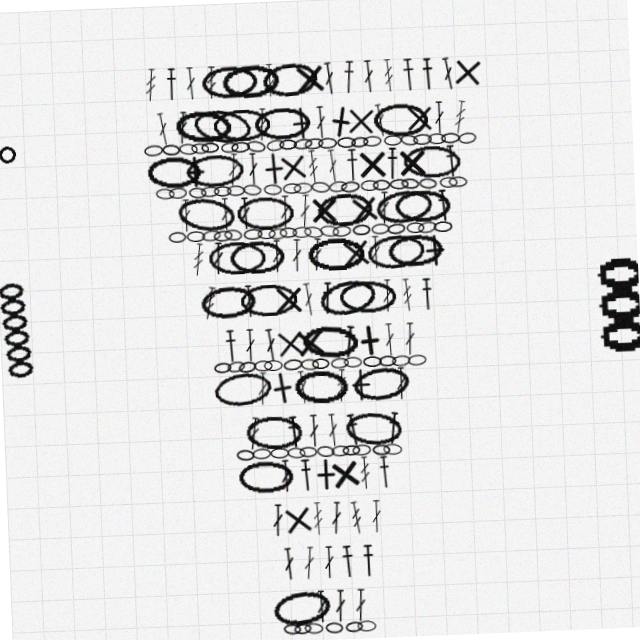chain: (318, 277, 380, 320), (199, 102, 261, 144), (180, 190, 242, 231), (260, 587, 320, 627), (210, 367, 270, 406), (349, 367, 408, 406), (379, 191, 438, 230), (369, 236, 429, 273), (340, 412, 398, 450), (300, 324, 358, 361), (182, 104, 240, 141), (271, 60, 328, 97), (201, 281, 258, 317), (241, 413, 299, 448), (409, 149, 467, 184), (231, 61, 289, 96), (390, 237, 447, 272), (340, 282, 398, 316), (241, 194, 299, 228), (192, 150, 250, 184), (291, 369, 347, 404), (321, 193, 377, 228), (211, 62, 268, 96), (232, 458, 288, 492), (241, 282, 298, 315), (211, 238, 268, 271), (310, 238, 367, 271), (399, 194, 456, 227), (221, 106, 278, 139), (153, 150, 208, 184), (381, 106, 436, 140), (262, 106, 318, 139), (232, 238, 287, 271), (307, 225, 327, 239), (253, 137, 273, 151), (236, 357, 255, 371), (407, 137, 426, 151), (281, 357, 301, 370), (205, 225, 225, 238), (323, 225, 343, 238), (421, 225, 441, 238), (316, 181, 336, 194), (300, 137, 320, 150), (311, 137, 331, 150), (311, 445, 330, 458), (225, 357, 244, 370), (227, 225, 246, 238), (248, 181, 267, 194), (334, 181, 353, 194), (406, 181, 425, 194), (273, 137, 292, 150), (281, 622, 300, 634), (292, 622, 311, 634), (378, 446, 397, 458), (390, 358, 409, 370), (406, 358, 425, 370), (217, 226, 236, 238), (272, 226, 291, 238), (336, 226, 355, 238), (161, 182, 180, 194), (346, 182, 365, 194), (424, 182, 443, 194), (151, 138, 170, 150), (186, 138, 205, 150), (238, 138, 257, 150), (465, 138, 484, 150), (271, 622, 289, 634), (313, 622, 331, 634), (333, 622, 351, 634), (231, 446, 249, 458), (282, 446, 300, 458), (367, 446, 385, 458), (212, 358, 230, 370), (299, 358, 317, 370), (329, 358, 347, 370), (391, 226, 409, 238), (194, 182, 212, 194), (269, 182, 287, 194), (169, 138, 187, 150), (198, 138, 216, 150), (228, 138, 246, 150), (358, 138, 376, 150), (345, 622, 364, 633), (247, 446, 266, 457), (265, 446, 284, 457), (347, 446, 366, 457), (252, 358, 271, 369), (262, 358, 281, 369), (361, 358, 380, 369), (190, 226, 209, 237), (247, 226, 266, 237), (296, 226, 315, 237), (437, 226, 456, 237), (206, 182, 225, 193), (288, 182, 307, 193), (299, 182, 318, 193), (395, 182, 414, 193), (454, 182, 473, 193), (325, 138, 344, 149), (344, 138, 363, 149), (370, 138, 389, 149), (420, 138, 439, 149), (448, 138, 467, 149), (294, 446, 312, 457), (326, 446, 344, 457), (337, 446, 355, 457), (310, 358, 328, 369), (342, 358, 360, 369), (377, 358, 395, 369), (172, 226, 190, 237), (261, 226, 279, 237), (283, 226, 301, 237), (356, 226, 374, 237), (375, 226, 393, 237), (410, 226, 428, 237), (174, 182, 192, 193), (219, 182, 237, 193), (232, 182, 250, 193), (366, 182, 384, 193), (378, 182, 396, 193), (445, 182, 463, 193), (208, 138, 226, 149), (286, 138, 304, 149), (391, 138, 409, 149), (435, 138, 453, 149)
double: (163, 106, 179, 140), (450, 62, 466, 96), (242, 414, 257, 448), (302, 282, 317, 316), (381, 106, 396, 140), (263, 326, 277, 360), (332, 62, 346, 96), (293, 370, 307, 403), (332, 150, 346, 183), (273, 546, 286, 579), (293, 546, 306, 579), (322, 502, 335, 535), (322, 414, 335, 447), (313, 238, 326, 271), (303, 194, 316, 227), (233, 150, 246, 183), (184, 106, 197, 139), (194, 62, 207, 95), (372, 62, 385, 95), (304, 590, 316, 623), (323, 590, 335, 623), (343, 590, 355, 623), (264, 502, 276, 535), (274, 458, 286, 491), (254, 370, 266, 403), (383, 326, 395, 359), (403, 326, 415, 359), (244, 282, 256, 315), (215, 238, 227, 271), (224, 194, 236, 227), (244, 194, 256, 227), (383, 194, 395, 227), (264, 106, 276, 139), (323, 106, 335, 139), (314, 546, 325, 579), (363, 502, 374, 535), (304, 414, 315, 447), (393, 370, 404, 403), (244, 326, 255, 359), (383, 282, 394, 315), (274, 238, 285, 271), (294, 238, 305, 271), (373, 238, 384, 271), (185, 194, 196, 227), (284, 194, 295, 227), (254, 150, 265, 183), (442, 106, 453, 139)
enseble_chain: (591, 268, 640, 372), (0, 269, 36, 370)
half_double: (340, 414, 358, 448), (340, 326, 357, 360), (381, 414, 397, 448), (282, 414, 297, 448), (331, 546, 346, 579), (351, 62, 366, 95), (411, 62, 426, 95), (293, 458, 307, 491), (223, 326, 237, 359), (441, 194, 455, 227), (451, 150, 465, 183), (352, 546, 365, 579), (372, 458, 385, 491), (322, 282, 335, 315), (352, 150, 365, 183), (392, 150, 405, 183), (431, 62, 444, 95), (422, 282, 434, 315), (175, 62, 187, 95)
noise: (3, 131, 25, 153)
single: (330, 104, 368, 142), (261, 368, 298, 405), (272, 501, 308, 537), (321, 457, 357, 493), (351, 193, 387, 229), (272, 325, 307, 360), (292, 325, 327, 360), (351, 325, 386, 360), (341, 237, 376, 272), (282, 149, 317, 184), (292, 105, 327, 140), (302, 61, 337, 96), (460, 61, 495, 96), (421, 238, 455, 272), (184, 150, 218, 184), (263, 150, 297, 184), (352, 106, 386, 140), (303, 458, 336, 491), (342, 370, 375, 403), (273, 282, 306, 315), (312, 194, 345, 227), (362, 150, 395, 183), (402, 150, 435, 183), (411, 106, 444, 139)
treble: (202, 282, 219, 316), (460, 106, 476, 140), (341, 502, 356, 536), (194, 238, 208, 272), (402, 282, 415, 315), (313, 150, 326, 183), (154, 62, 167, 95), (392, 62, 405, 95), (304, 502, 316, 535), (353, 458, 365, 491), (333, 370, 345, 403), (215, 62, 227, 95), (274, 62, 285, 95)
